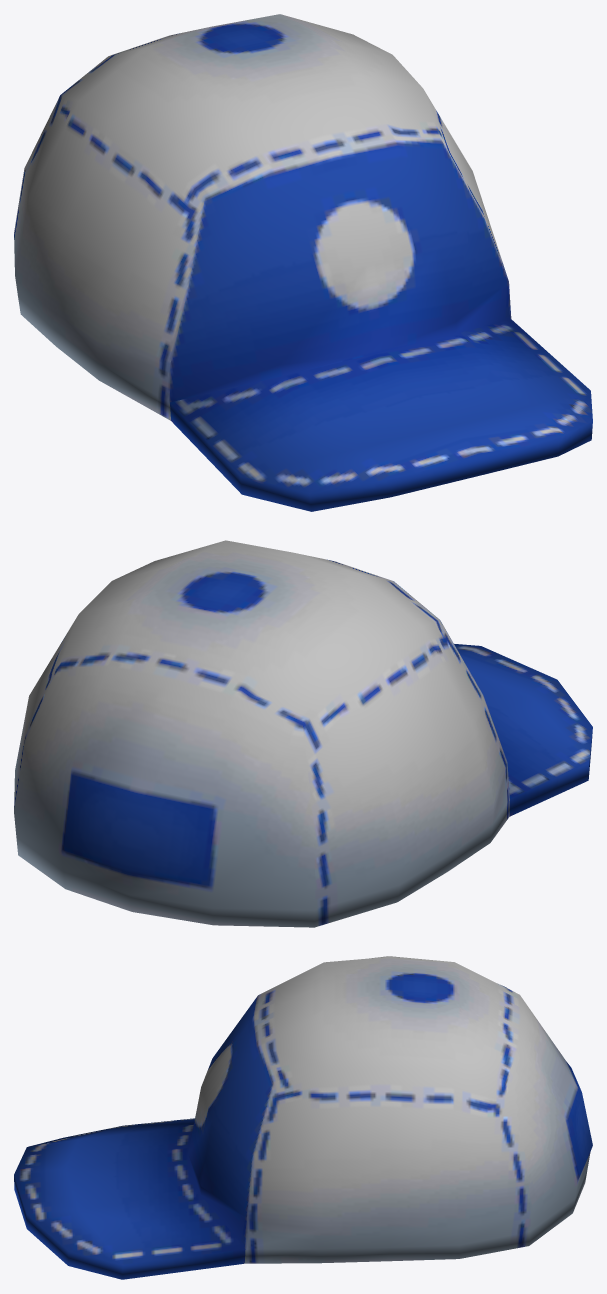
Rendered from Accesorios 14.obj.
The picture shows the model from 3 angles, top to bottom: view 1: azimuth 30°, elevation 25°; view 2: azimuth 150°, elevation 25°; view 3: azimuth 270°, elevation 25°; orthographic projection. The views are drawn at different scales.
Parts seen in each view (by area): view 1: m_BaseballHat01; view 2: m_BaseballHat01; view 3: m_BaseballHat01.
Part boxes in pixels (box(x1,y1,x2,y2)): m_BaseballHat01: box(14, 14, 592, 511); m_BaseballHat01: box(14, 540, 592, 927); m_BaseballHat01: box(14, 956, 592, 1279).
Bounding box in the file's own units: 2.61 × 1.74 × 3.97.
